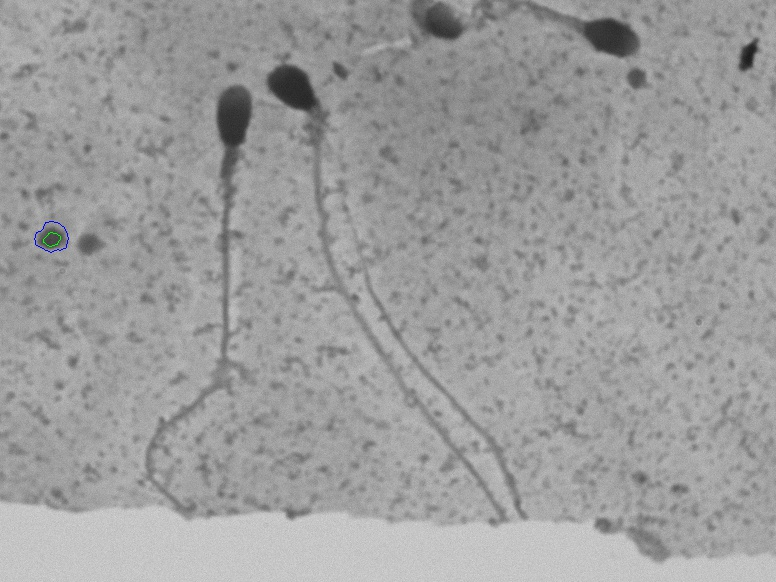Abnormal: (257, 54, 509, 519), (130, 79, 259, 511)
